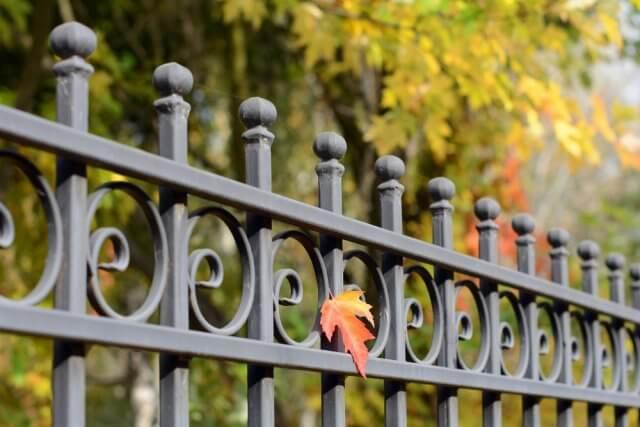obstacle: (59, 0, 640, 426)
